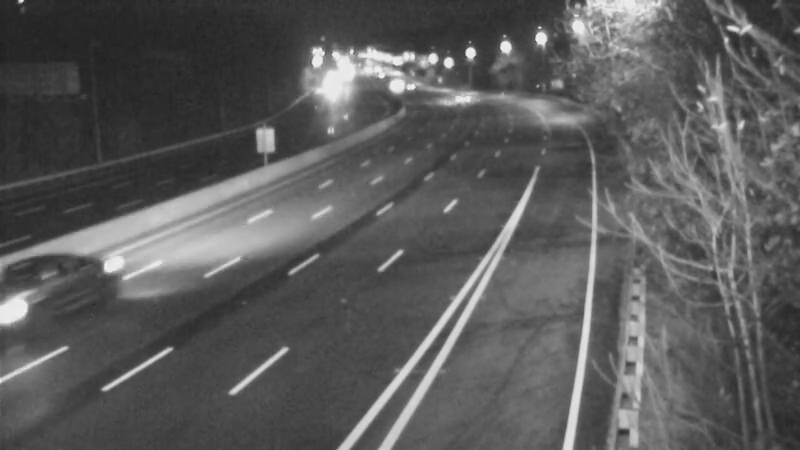vehicle: (19, 252, 99, 332), (369, 59, 419, 109), (384, 59, 434, 109), (438, 71, 488, 121)
